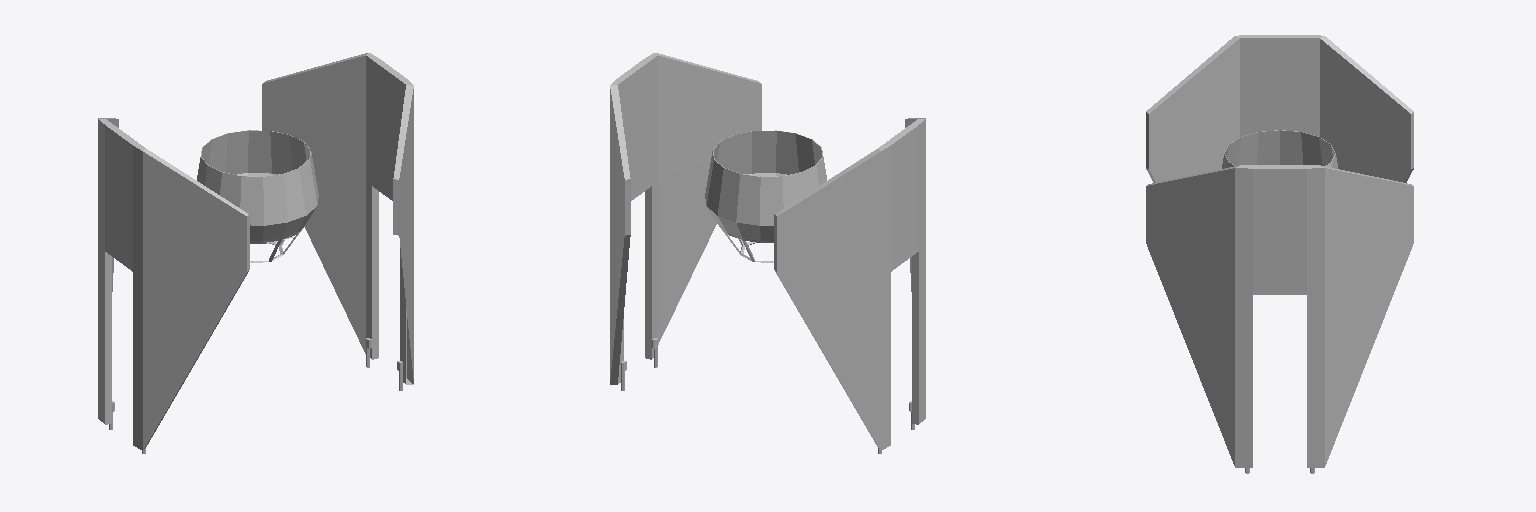
File: Cabin_Tie_Interceptor.obj
3 renders of one model, left to right at view 1: azimuth 30°, elevation 25°; view 2: azimuth 150°, elevation 25°; view 3: azimuth 270°, elevation 25°, orthographic.
Parts seen in each view (by area): view 1: Sphere001; view 2: Sphere001; view 3: Sphere001.
Boxes of the visible parts, x1=… form: Sphere001: x1=98, y1=53, x2=413, y2=453; Sphere001: x1=610, y1=53, x2=925, y2=453; Sphere001: x1=1146, y1=35, x2=1413, y2=473.
Size of the model in its own units: 60.53 by 65.09 by 51.46.